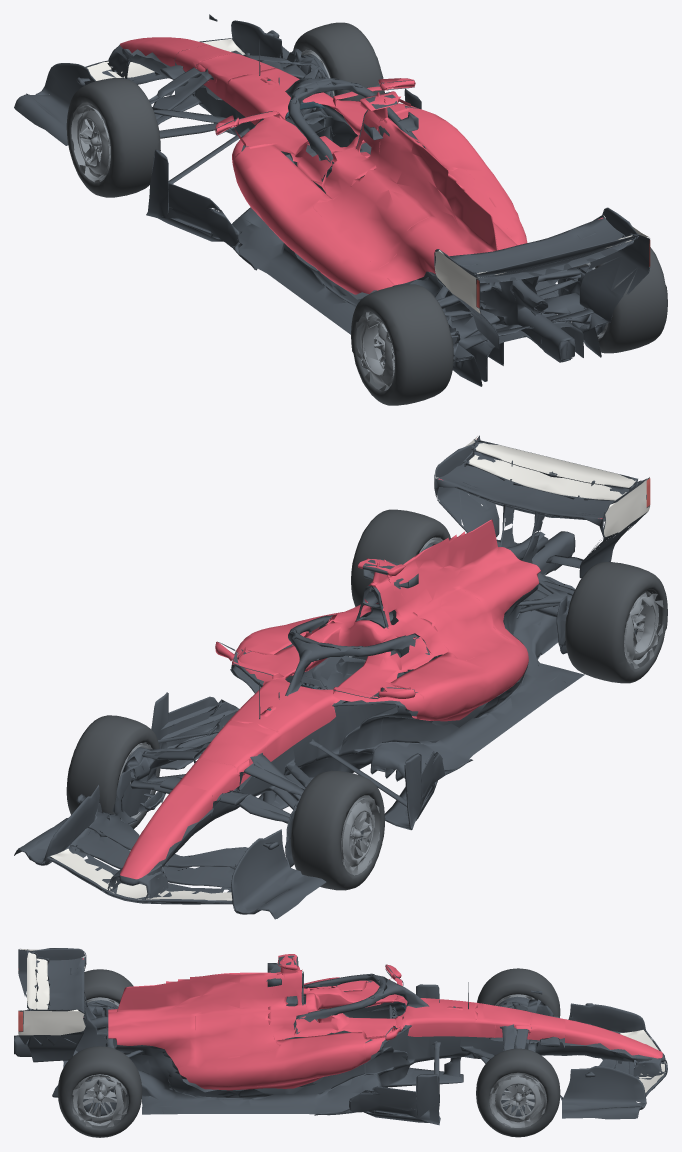
Rendered from ferrari-far.glb.
3 renders of one model, top to bottom at view 1: azimuth 30°, elevation 25°; view 2: azimuth 150°, elevation 25°; view 3: azimuth 270°, elevation 25°, orthographic. The views are drawn at different scales.
Visible parts, largest first — view 1: body, wheel2, wheel0, rearFlaps, frontFlaps, wheel3, wheel1, frontWing, rearWing; view 2: body, frontFlaps, rearFlaps, wheel2, wheel0, wheel1, frontWing, wheel3, rearWing; view 3: body, frontFlaps, wheel3, wheel1, rearFlaps, wheel0, frontWing, wheel2, rearWing.
Part boxes in pixels (box(x1,y1,x2,y2)): body: box(66, 14, 638, 386); wheel2: box(351, 284, 453, 405); wheel0: box(66, 78, 160, 197); rearFlaps: box(435, 207, 650, 313); frontFlaps: box(26, 20, 284, 119); wheel3: box(566, 247, 667, 353); wheel1: box(293, 22, 384, 109); frontWing: box(14, 46, 289, 145); rearWing: box(438, 252, 648, 326); body: box(66, 471, 639, 881); frontFlaps: box(26, 784, 292, 912); rearFlaps: box(435, 435, 650, 541); wheel2: box(565, 562, 667, 683); wheel0: box(291, 770, 385, 890); wheel1: box(66, 715, 160, 828); frontWing: box(14, 818, 326, 919); wheel3: box(351, 509, 450, 606); rearWing: box(437, 488, 647, 555); body: box(14, 952, 565, 1125); frontFlaps: box(562, 1003, 666, 1109); wheel3: box(58, 1046, 142, 1137); wheel1: box(476, 1048, 560, 1137); rearFlaps: box(18, 948, 85, 1035); wheel0: box(477, 968, 560, 1017); frontWing: box(562, 1060, 667, 1119); wheel2: box(84, 969, 133, 1006); rearWing: box(18, 975, 86, 1044).
Size of the model in its own units: 1.9 by 1.22 by 5.32.
